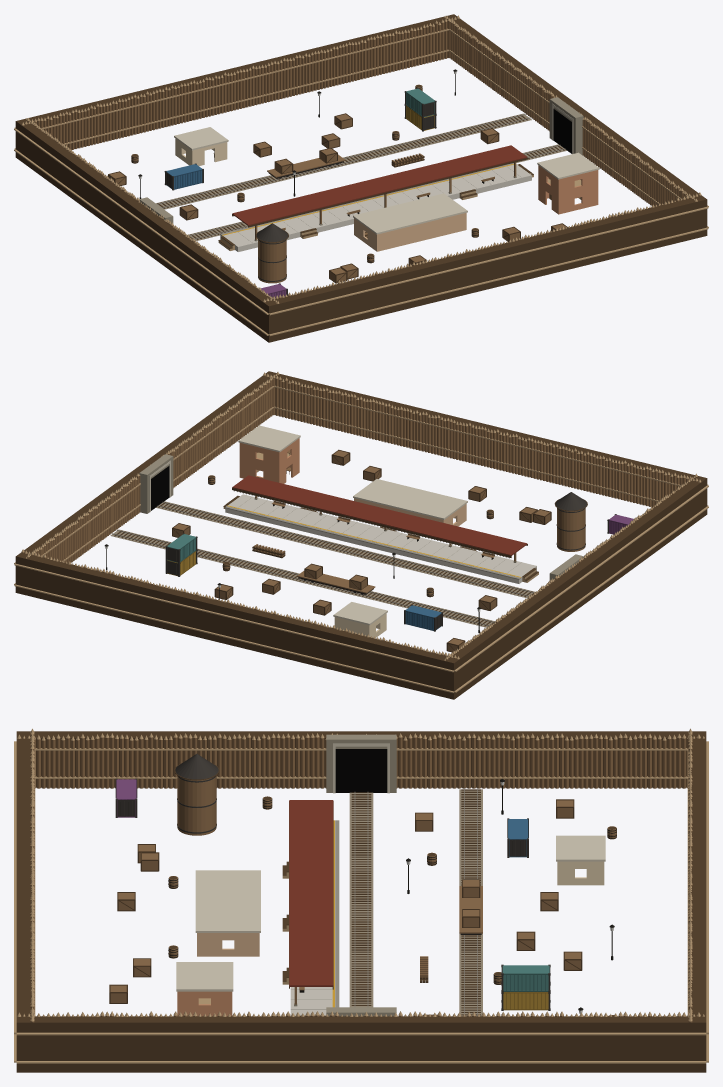
File: expresso.glb
3 views of the same model, one above another, from view 1: azimuth 30°, elevation 25°; view 2: azimuth 150°, elevation 25°; view 3: azimuth 270°, elevation 25° (orthographic). The views are drawn at different scales.
Visible parts, largest first — view 1: map_wood_dark.001, map_wood.001, map_wood_light.001, map_canopy.001, map_concrete.001, map_stone.001, map_ballast.001, map_hw_c98f6a.001, map_hw_d9b48f.001, map_steel_l.001, map_stone_dark.001, map_hw_e3cfae.001 (+4 smaller); view 2: map_wood_dark.001, map_wood.001, map_wood_light.001, map_concrete.001, map_ballast.001, map_canopy.001, map_stone.001, map_hw_c98f6a.001, map_steel_l.001, map_stone_dark.001, map_concrete_d.001, map_hw_e3cfae.001 (+4 smaller); view 3: map_wood_dark.001, map_wood.001, map_wood_light.001, map_canopy.001, map_stone.001, map_ballast.001, map_void.001, map_stone_dark.001, map_hw_d9b48f.001, map_hw_c98f6a.001, map_concrete.001, map_steel_l.001 (+8 smaller).
Part boxes in pixels (x1,y1,x2,y2): map_wood_dark.001: (15,14,707,342); map_wood.001: (24,18,701,303); map_wood_light.001: (14,15,708,335); map_canopy.001: (232,145,527,225); map_concrete.001: (220,164,531,251); map_stone.001: (174,103,599,234); map_ballast.001: (156,113,566,241); map_hw_c98f6a.001: (538,165,598,214); map_hw_d9b48f.001: (354,213,466,251); map_steel_l.001: (157,114,565,239); map_stone_dark.001: (139,97,583,241); map_hw_e3cfae.001: (175,138,227,165); map_wood_dark.001: (15,371,707,699); map_wood.001: (21,374,698,659); map_wood_light.001: (14,372,708,692); map_concrete.001: (225,494,536,583); map_ballast.001: (110,501,535,627); map_canopy.001: (232,475,527,555); map_stone.001: (149,425,467,625); map_hw_c98f6a.001: (239,438,299,483); map_steel_l.001: (112,502,533,625); map_stone_dark.001: (139,454,583,580); map_concrete_d.001: (225,497,521,579); map_hw_e3cfae.001: (334,613,386,637); map_wood_dark.001: (16,731,706,1072); map_wood.001: (30,732,700,1022); map_wood_light.001: (14,728,708,1063); map_canopy.001: (289,800,333,986); map_stone.001: (176,743,605,991); map_ballast.001: (349,789,482,1016); map_void.001: (335,749,387,792); map_stone_dark.001: (294,734,396,1016); map_hw_d9b48f.001: (197,933,259,956); map_hw_c98f6a.001: (177,991,232,1016); map_concrete.001: (290,820,335,1016); map_steel_l.001: (354,788,477,1015).
Size of the model in its own units: 88.72 by 10.47 by 88.72.
